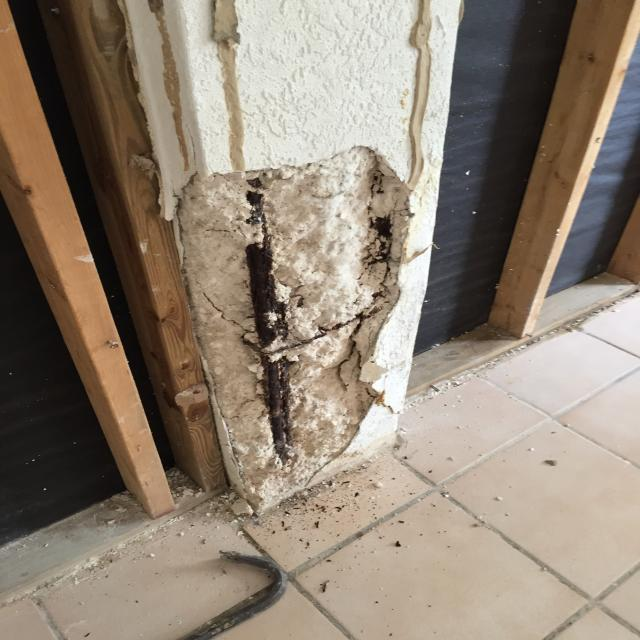Spalling: (147, 134, 419, 479)
